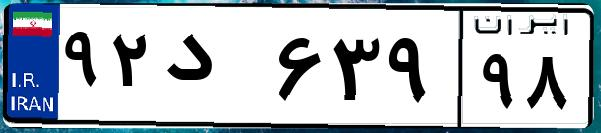2: (110, 28, 158, 98)
3: (330, 28, 385, 110)
6: (270, 28, 330, 110)
8: (525, 38, 570, 115)
9: (385, 28, 445, 110), (57, 26, 110, 100), (475, 38, 525, 113)
د: (158, 20, 270, 120)
